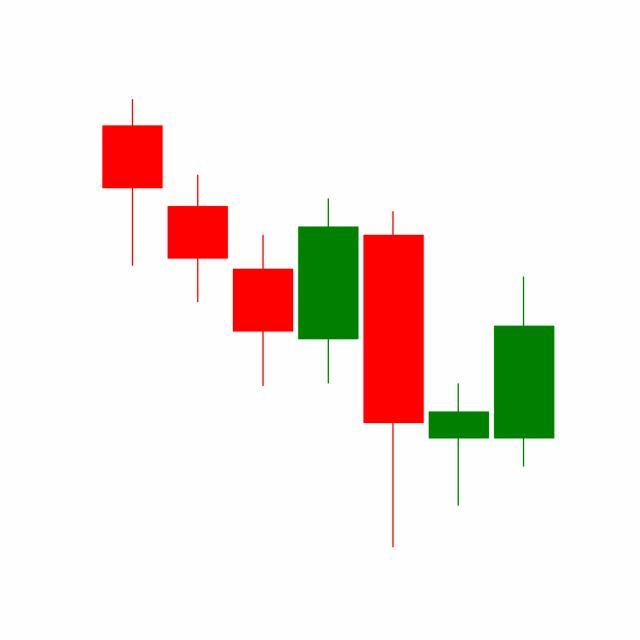Hikkake Pattern: (229, 194, 555, 549)
